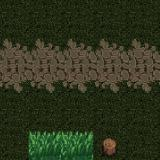Obstacle: (94, 132, 125, 160)
Slow: (30, 131, 94, 160)
